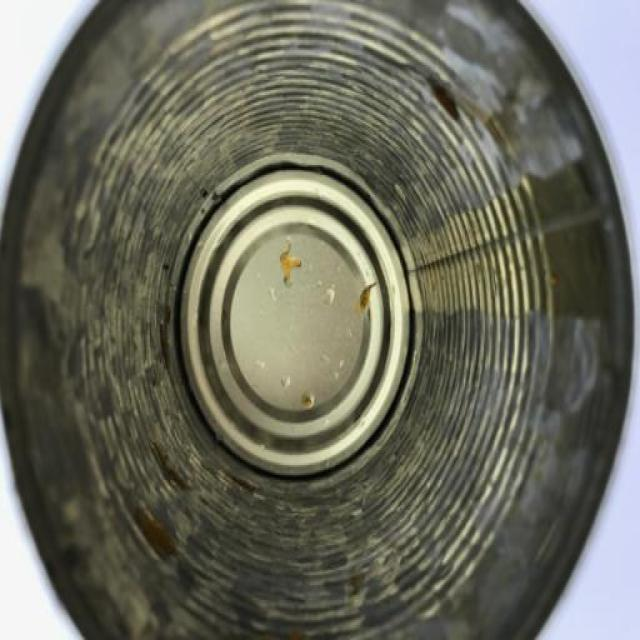Metal: (0, 0, 635, 640)
